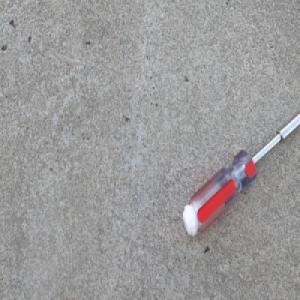Screwdriver: (181, 110, 300, 239)
